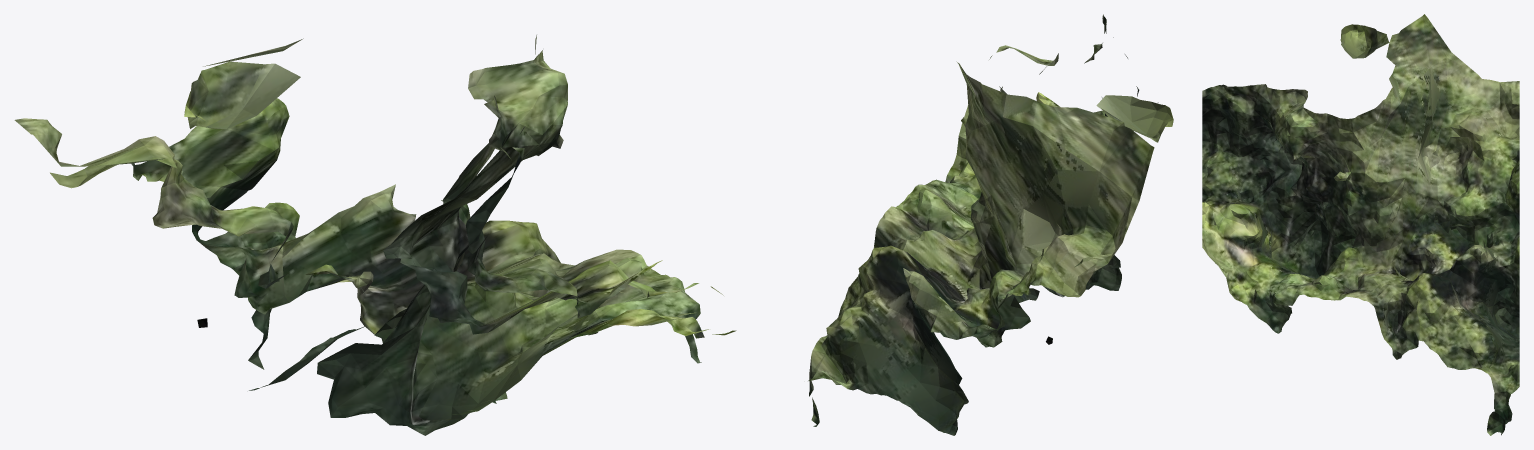
The picture shows the model from 3 angles, left to right: view 1: azimuth 30°, elevation 25°; view 2: azimuth 150°, elevation 25°; view 3: azimuth 270°, elevation 25°; orthographic projection. The views are drawn at different scales.
Size of the model in its own units: 26.11 by 26.11 by 26.11.
Materials: 5 (5 with a texture image).
